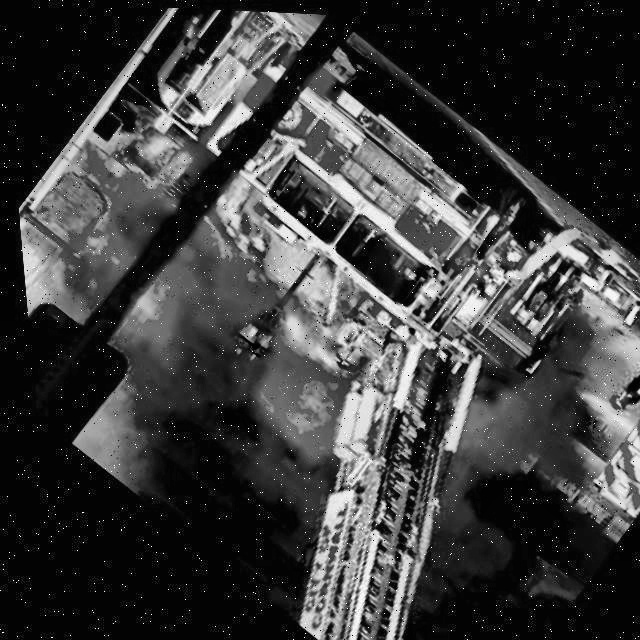Fire: (6, 86, 438, 499)
Smoke: (17, 245, 378, 622), (422, 278, 640, 536), (301, 468, 581, 640)
